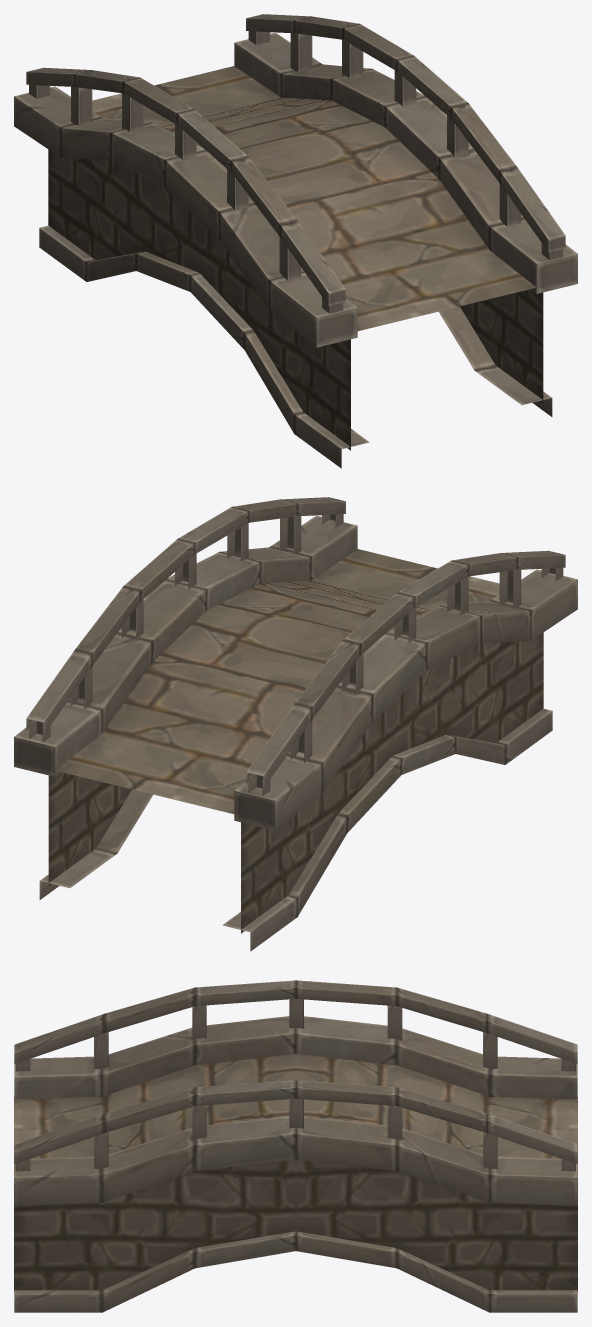
The model's file is bridge_city_2.FBX.
3 renders of one model, top to bottom at view 1: azimuth 30°, elevation 25°; view 2: azimuth 150°, elevation 25°; view 3: azimuth 270°, elevation 25°, orthographic. The views are drawn at different scales.
Parts seen in each view (by area): view 1: Box024; view 2: Box024; view 3: Box024.
Boxes of the visible parts, <box> form: Box024: <box>14,14,577,468</box>; Box024: <box>14,497,577,951</box>; Box024: <box>14,980,577,1312</box>.
Bounding box in the file's own units: 103 × 93.09 × 206.
